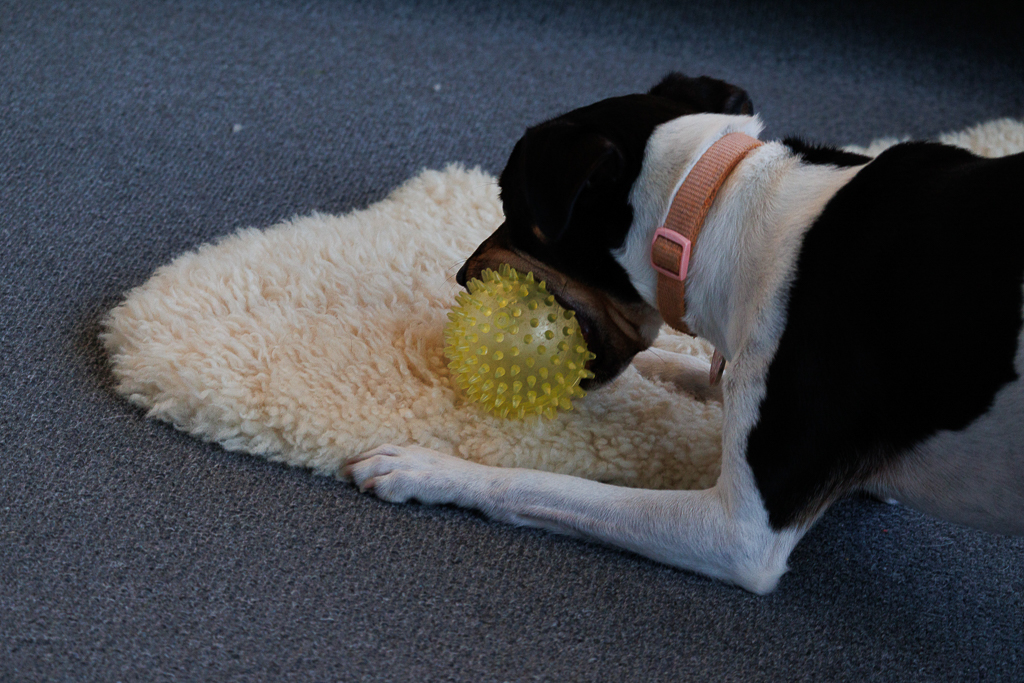Dog: (326, 57, 1024, 614)
